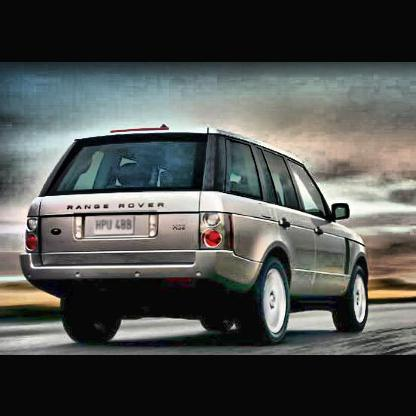Land Rover Range Rover SUV 2012: (21, 125, 371, 344)
